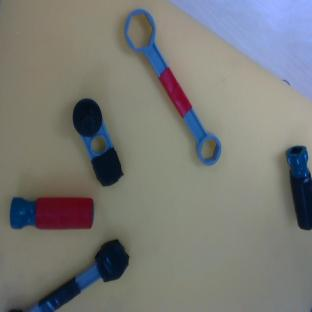part_1_bad: (66, 95, 126, 190)
part_2_good: (10, 198, 93, 229)
part_3_bad: (19, 237, 136, 312)
part_3_good: (116, 5, 228, 173)
